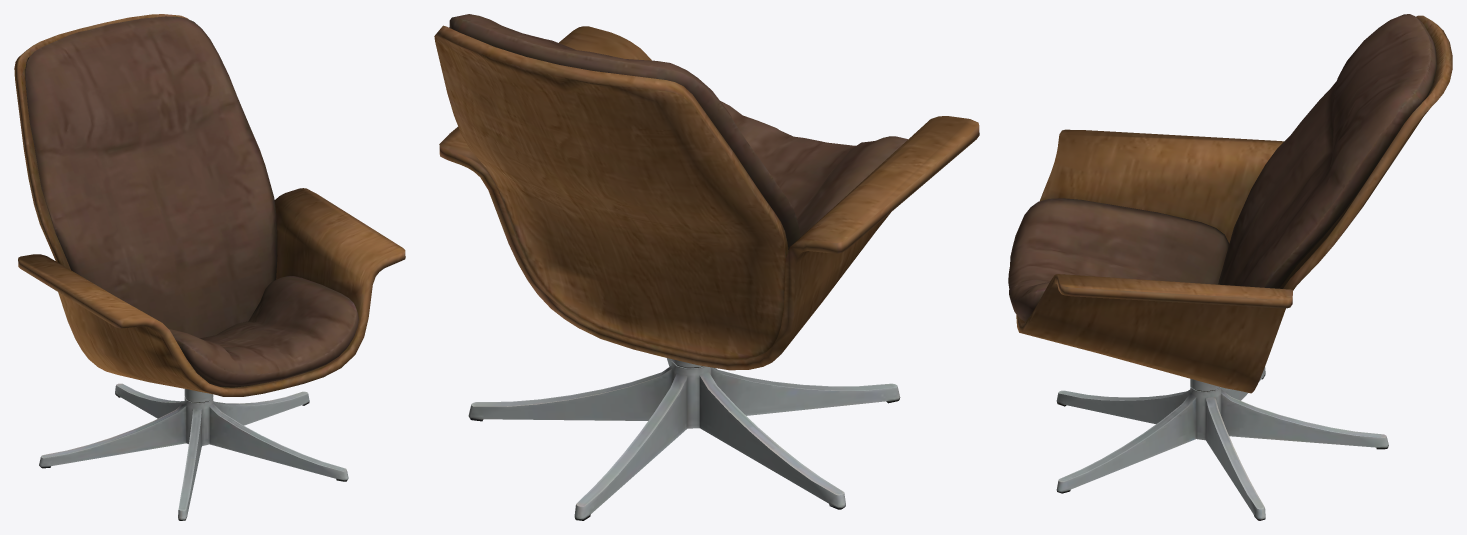
Rendered from mid_century_lounge_chair.glb.
3 views of the same model, side by side, from view 1: azimuth 30°, elevation 25°; view 2: azimuth 150°, elevation 25°; view 3: azimuth 270°, elevation 25° (orthographic). The views are drawn at different scales.
Visible parts, largest first — view 1: mid_century_lounge_chair; view 2: mid_century_lounge_chair; view 3: mid_century_lounge_chair.
Boxes of the visible parts, box(x1,y1,x2,y2) form: mid_century_lounge_chair: box(14, 14, 405, 520); mid_century_lounge_chair: box(434, 14, 979, 520); mid_century_lounge_chair: box(1008, 14, 1452, 520).
Size of the model in its own units: 1.01 by 1.17 by 1.19.
Materials: 1 (1 with a texture image).
